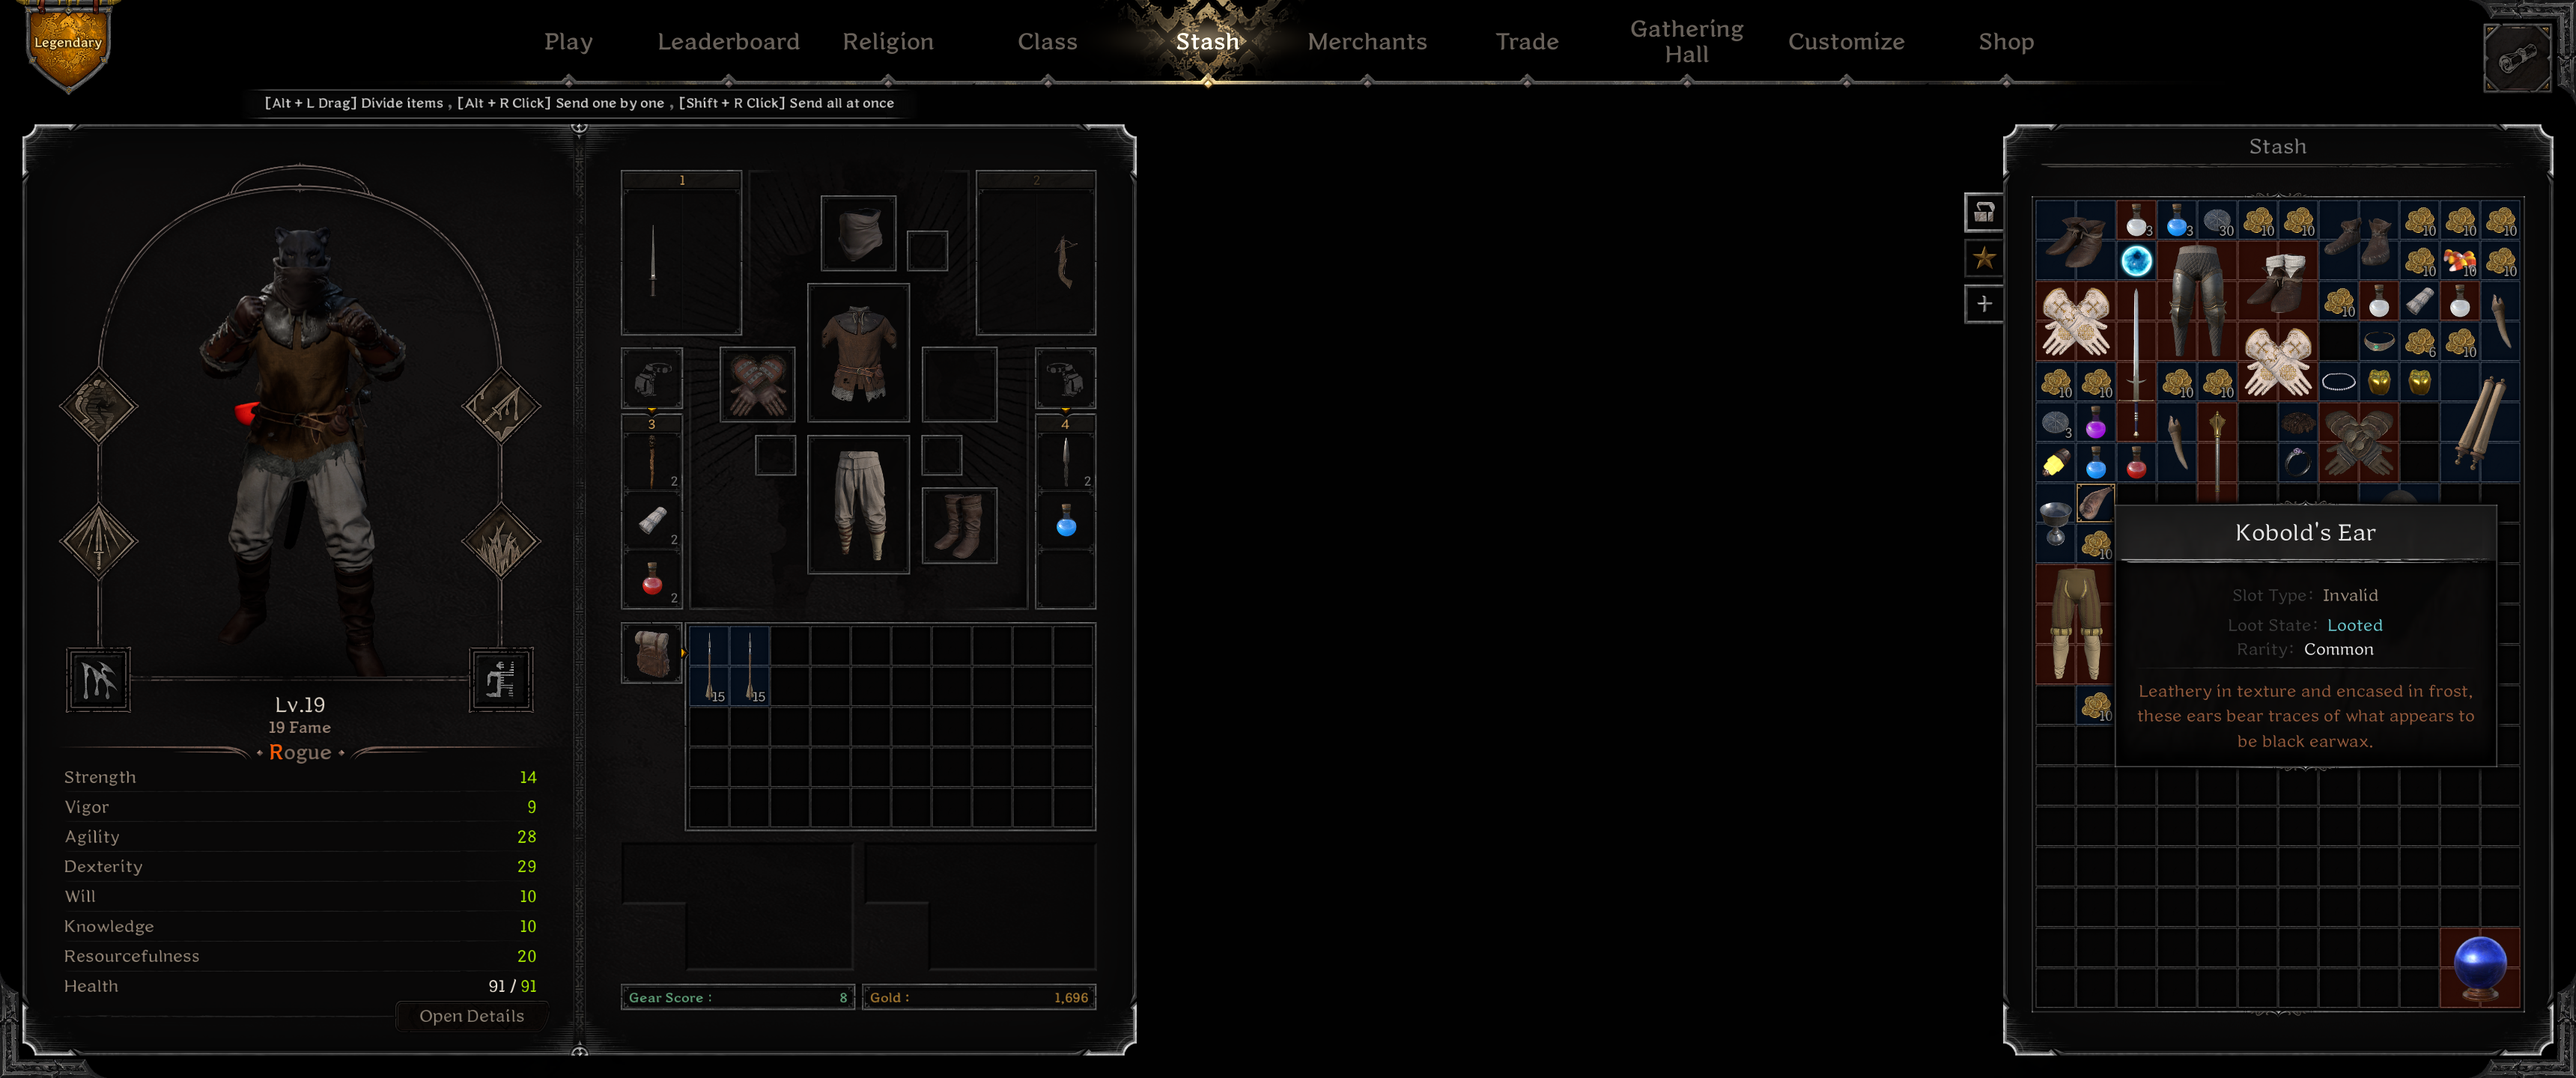Tooltip: (2113, 504, 2499, 767)
